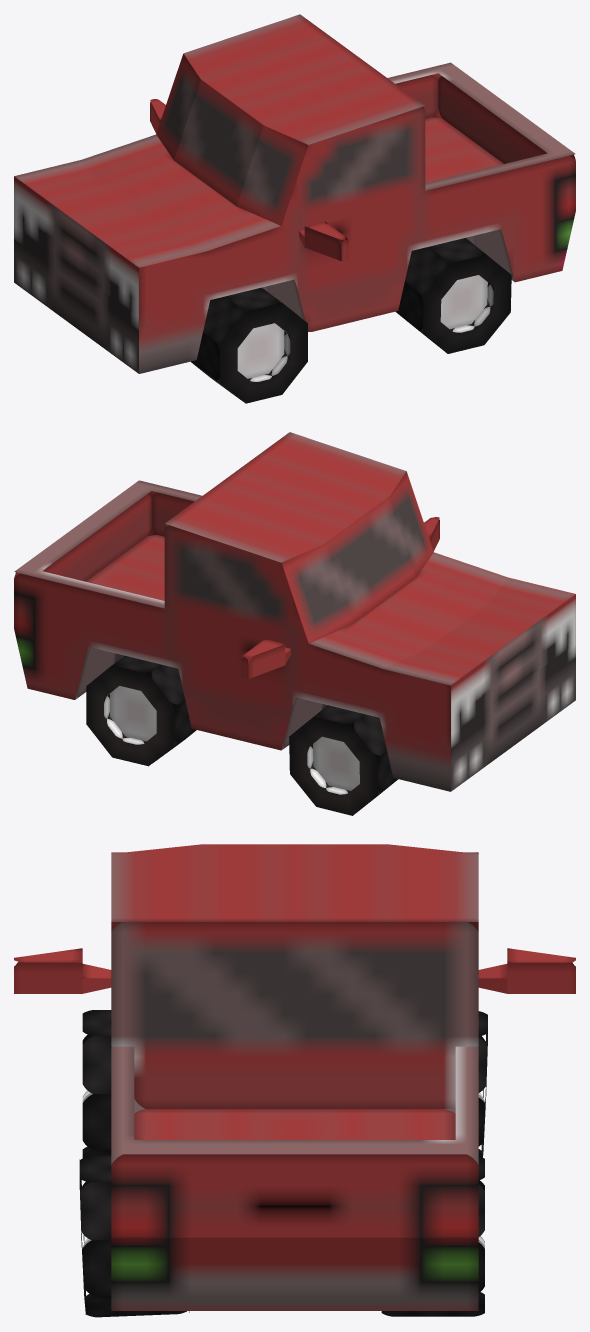
File: Truck3.fbx
The picture shows the model from 3 angles, top to bottom: view 1: azimuth 30°, elevation 25°; view 2: azimuth 150°, elevation 25°; view 3: azimuth 270°, elevation 25°; orthographic projection. The views are drawn at different scales.
Parts seen in each view (by area): view 1: Body, cylinder, cylinder_3, Mirror_left; view 2: Body, cylinder_2, cylinder_1, Mirror_right; view 3: Body, cylinder, cylinder_3, Mirror_right, Mirror_left, cylinder_2, cylinder_1.
Part boxes in pixels (x1,y1,x2,y2): Body: (14, 14, 575, 373); cylinder: (395, 238, 511, 353); cylinder_3: (191, 287, 307, 403); Mirror_left: (299, 221, 348, 261); Body: (14, 432, 575, 791); cylinder_2: (86, 655, 196, 766); cylinder_1: (289, 705, 398, 815); Mirror_right: (241, 639, 290, 679); Body: (111, 844, 478, 1310); cylinder: (79, 1155, 189, 1317); cylinder_3: (82, 1010, 111, 1158); Mirror_right: (478, 948, 575, 993); Mirror_left: (14, 948, 111, 993); cylinder_2: (381, 1156, 484, 1316); cylinder_1: (478, 1011, 487, 1157).
Bounding box in the file's own units: 202 × 108 × 153.
1 material, 1 textured.
